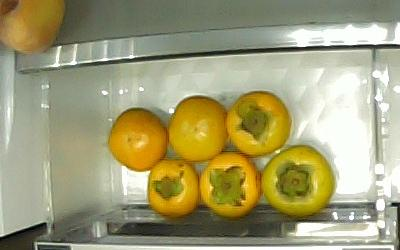persimmon: (260, 145, 332, 216), (197, 151, 263, 215), (227, 91, 291, 154), (106, 108, 166, 171), (168, 96, 227, 159), (147, 161, 198, 216)
